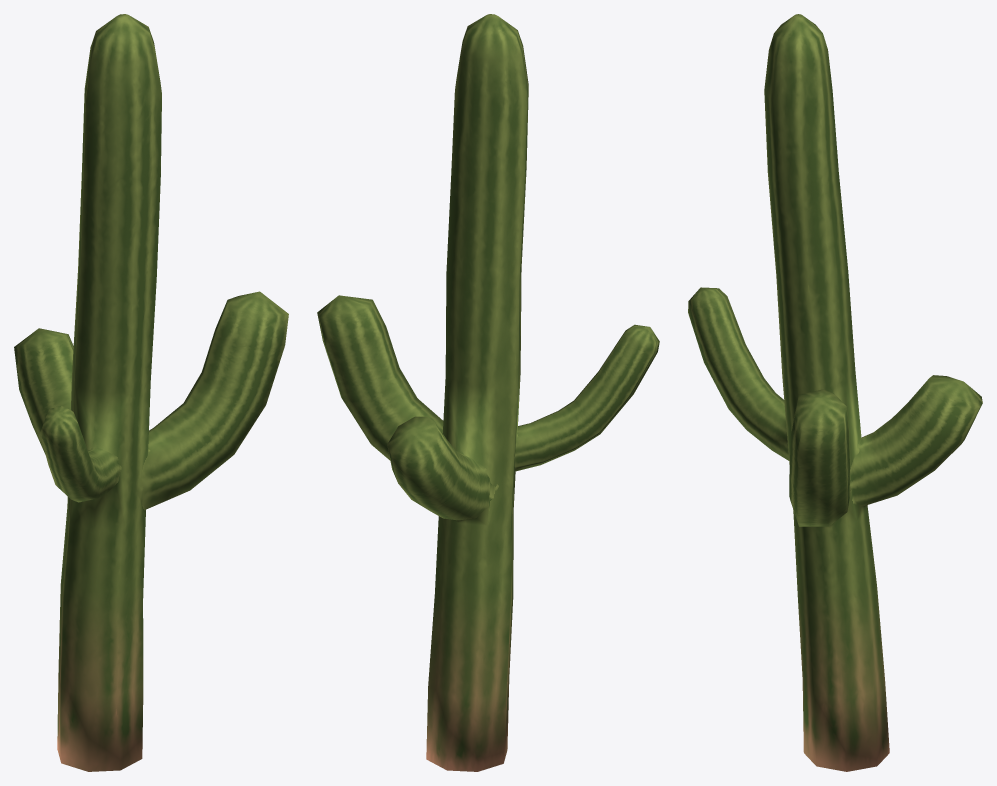
The model's file is cactus_8.glb.
3 views of the same model, side by side, from view 1: azimuth 30°, elevation 25°; view 2: azimuth 150°, elevation 25°; view 3: azimuth 270°, elevation 25° (orthographic). The views are drawn at different scales.
Visible parts, largest first — view 1: cactus_8_cacturs_8_0; view 2: cactus_8_cacturs_8_0; view 3: cactus_8_cacturs_8_0.
Boxes of the visible parts, x1,y1,x2,y2 form: cactus_8_cacturs_8_0: (14,14,288,771); cactus_8_cacturs_8_0: (317,14,659,771); cactus_8_cacturs_8_0: (688,14,982,771).
Bounding box in the file's own units: 1.68 × 4.12 × 1.49.
Materials: 1 (1 with a texture image).
